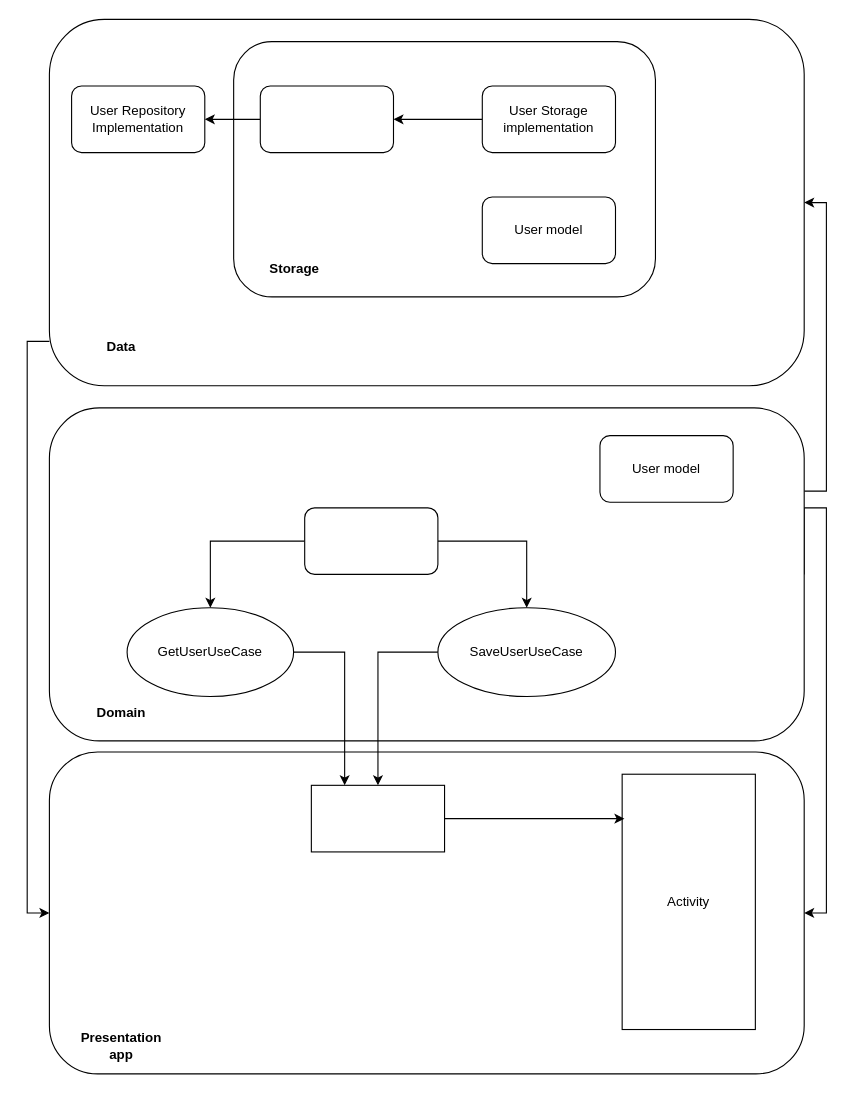
Some shapes in this 855 by 1093 pixel diagram are drawn without their labels. Each missing label, with the box of its shape:
User Repository interface: (304, 507, 438, 574)
User Storage inteface: (259, 85, 393, 153)
ViewModel: (310, 784, 445, 852)
